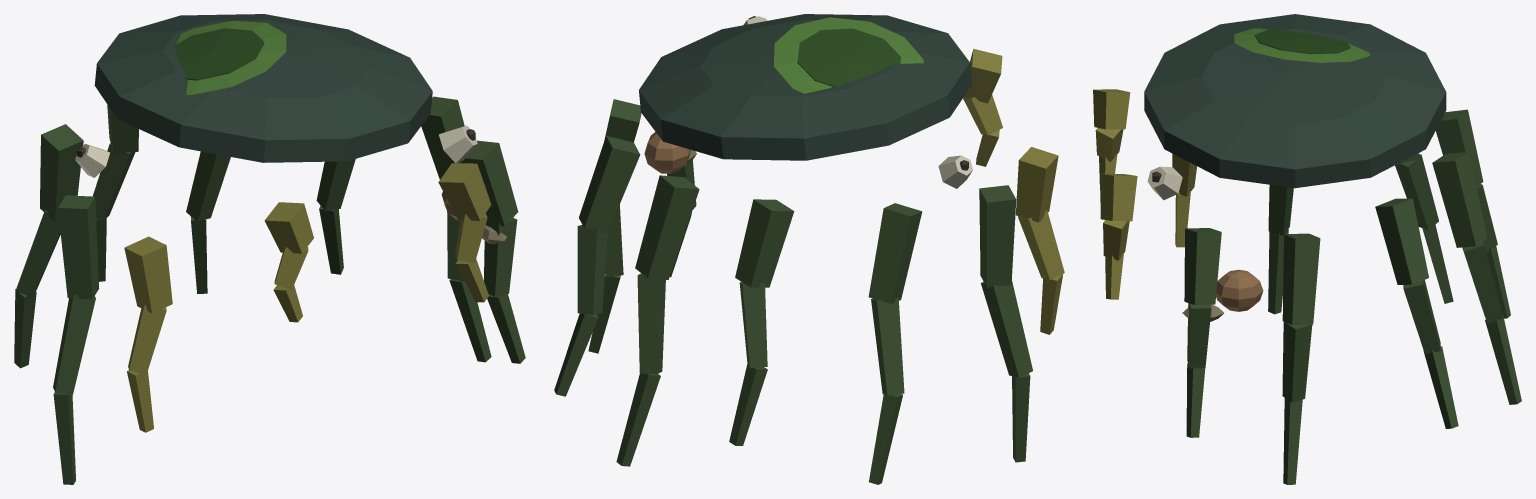
The model's file is sunken_head.glb.
The picture shows the model from 3 angles, left to right: view 1: azimuth 30°, elevation 25°; view 2: azimuth 150°, elevation 25°; view 3: azimuth 270°, elevation 25°; orthographic projection. The views are drawn at different scales.
Parts seen in each view (by area): view 1: sunken_head; view 2: sunken_head; view 3: sunken_head.
Part boxes in pixels (<box>): sunken_head: <box>14,14,525,484</box>; sunken_head: <box>554,14,1064,484</box>; sunken_head: <box>1093,14,1521,484</box>.
Bounding box in the file's own units: 1.3 × 1.09 × 1.22.
